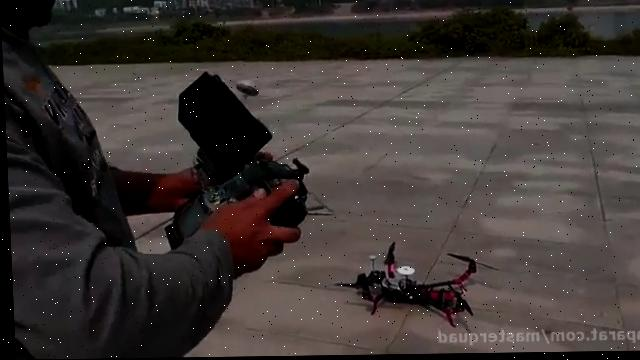drone: (328, 240, 501, 331)
